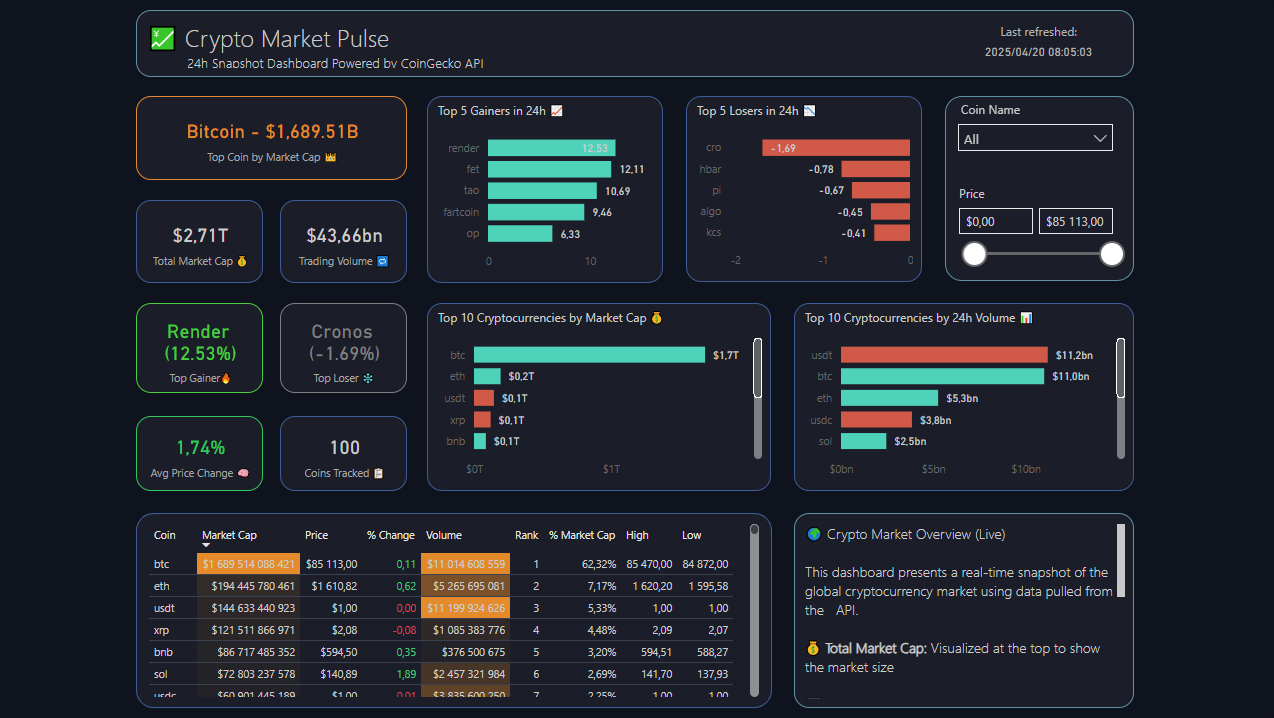

Layout of this report page (visuals, bound fields, positions):
{"tool":"powerbi","page":{"name":"Page 1","canvas":[1280,720],"ordinal":0},"visuals":[{"type":"shape","box":[141,514,636,195],"z":0},{"type":"shape","box":[950,97,189,185],"z":1000},{"type":"textbox","box":[141,11,998,67],"z":2000},{"type":"card","title":"Top Coin by Market Cap 👑","fields":{"Values":["CryptoMarket.Top Coin with Market Cap"]},"box":[141,97,271,84],"z":3000},{"type":"card","fields":{"Values":["CryptoMarket.Top Gainer 24h"]},"box":[141,304,127,90],"z":4000},{"type":"card","fields":{"Values":["CryptoMarket.Top Loser 24h"]},"box":[285,304,127,90],"z":5000},{"type":"card","fields":{"Values":["CryptoMarket.Total Coins Tracked"]},"box":[285,417,127,75],"z":6000},{"type":"clusteredBarChart","title":"Top 10 Cryptocurrencies by Market Cap 💰","fields":{"Category":["CryptoMarket.Symbol"],"Y":["CryptoMarket.Total Market Cap"]},"box":[431.8,303.6,344.5,188.2],"z":7000},{"type":"clusteredBarChart","title":"Top 10 Cryptocurrencies by 24h Volume 📊","fields":{"Category":["CryptoMarket.Symbol"],"Y":["CryptoMarket.Total Volume 24h"]},"box":[799.1,303.6,340,188.2],"z":8000},{"type":"card","fields":{"Values":["CryptoMarket.Total Volume 24h"]},"box":[285,201,127,83],"z":9000},{"type":"clusteredBarChart","title":"Top 5 Gainers in 24h 📈","fields":{"Category":["CryptoMarket.Symbol"],"Y":["Sum(CryptoMarket.24h % Change)"]},"box":[432,97,236,187],"z":10000},{"type":"clusteredBarChart","title":"Top 5 Losers in 24h 📉","fields":{"Category":["CryptoMarket.Symbol"],"Y":["Sum(CryptoMarket.24h % Change)"]},"box":[691,97,236,186],"z":11000},{"type":"textbox","box":[799.1,513.6,340,195.5],"z":12000},{"type":"card","title":"Last refreshed:","fields":{"Values":["Min(CryptoMarket.last_updated)"]},"box":[950,18,185,52],"z":13000},{"type":"card","fields":{"Values":["CryptoMarket.Total Market Cap"]},"box":[141,201,127,83],"z":14000},{"type":"card","fields":{"Values":["CryptoMarket.Average Price Change 24h"]},"box":[141,417,127,75],"z":15000},{"type":"slicer","fields":{"Values":["CryptoMarket.Current Price"]},"box":[951,181,187,102],"z":16000},{"type":"slicer","fields":{"Values":["CryptoMarket.Name"]},"box":[953,97,175,65],"z":17000},{"type":"tableEx","fields":{"Values":["CryptoMarket.Symbol","CryptoMarket.Total Market Cap","Sum(CryptoMarket.Current Price)","CryptoMarket.24h % Change","CryptoMarket.Total Volume 24h","CryptoMarket.Rank","Sum(CryptoMarket.Market Cap)","Sum(CryptoMarket.high_24h)","Sum(CryptoMarket.low_24h)"]},"box":[148,520,621,183],"z":18000}]}

Visuals, with their boxes in screenshot pixels (x1, y1, x2, y2), scaled from the page's 1280x720 canvas onto the 1274x718 screenshot:
shape: {"left": 140, "top": 513, "right": 773, "bottom": 707}
shape: {"left": 946, "top": 97, "right": 1134, "bottom": 281}
textbox: {"left": 140, "top": 11, "right": 1134, "bottom": 78}
"Top Coin by Market Cap 👑" card: {"left": 140, "top": 97, "right": 410, "bottom": 180}
card - CryptoMarket.Top Gainer 24h: {"left": 140, "top": 303, "right": 267, "bottom": 393}
card - CryptoMarket.Top Loser 24h: {"left": 284, "top": 303, "right": 410, "bottom": 393}
card - CryptoMarket.Total Coins Tracked: {"left": 284, "top": 416, "right": 410, "bottom": 491}
"Top 10 Cryptocurrencies by Market Cap 💰" clusteredBarChart: {"left": 430, "top": 303, "right": 773, "bottom": 490}
"Top 10 Cryptocurrencies by 24h Volume 📊" clusteredBarChart: {"left": 795, "top": 303, "right": 1134, "bottom": 490}
card - CryptoMarket.Total Volume 24h: {"left": 284, "top": 200, "right": 410, "bottom": 283}
"Top 5 Gainers in 24h 📈" clusteredBarChart: {"left": 430, "top": 97, "right": 665, "bottom": 283}
"Top 5 Losers in 24h 📉" clusteredBarChart: {"left": 688, "top": 97, "right": 923, "bottom": 282}
textbox: {"left": 795, "top": 512, "right": 1134, "bottom": 707}
"Last refreshed:" card: {"left": 946, "top": 18, "right": 1130, "bottom": 70}
card - CryptoMarket.Total Market Cap: {"left": 140, "top": 200, "right": 267, "bottom": 283}
card - CryptoMarket.Average Price Change 24h: {"left": 140, "top": 416, "right": 267, "bottom": 491}
slicer - CryptoMarket.Current Price: {"left": 947, "top": 180, "right": 1133, "bottom": 282}
slicer - CryptoMarket.Name: {"left": 949, "top": 97, "right": 1123, "bottom": 162}
tableEx - CryptoMarket.Symbol x CryptoMarket.Total Market Cap: {"left": 147, "top": 519, "right": 765, "bottom": 701}
